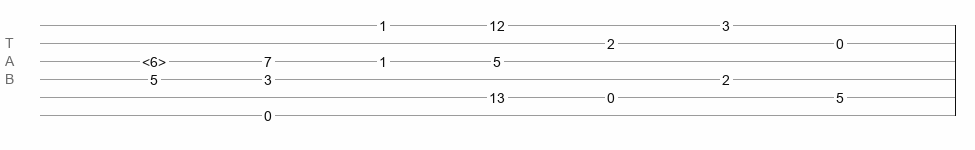0: (264, 108, 272, 118), (607, 90, 615, 100), (836, 36, 844, 46)
1: (379, 18, 387, 28), (379, 54, 387, 64)
12: (489, 18, 505, 28)
13: (489, 90, 505, 100)
2: (607, 36, 615, 46), (722, 72, 730, 82)
3: (264, 72, 272, 82), (722, 18, 730, 28)
5: (150, 72, 158, 82), (493, 54, 501, 64), (836, 90, 844, 100)
7: (264, 54, 272, 64)
harmonic: (142, 54, 166, 64)
